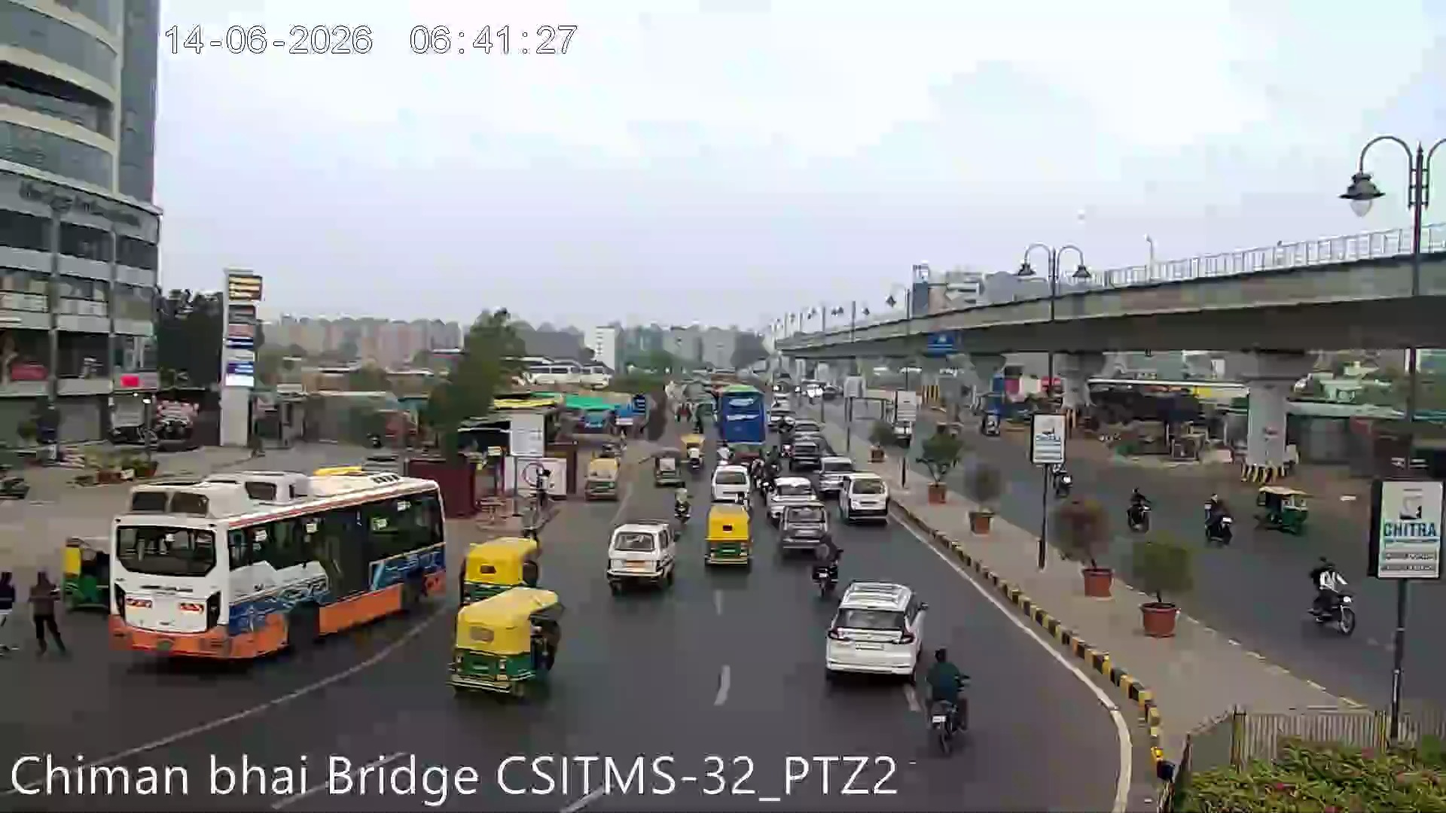auto_rickshaw: (448, 587, 566, 694), (462, 531, 542, 595), (1254, 481, 1312, 536), (704, 504, 753, 568), (583, 454, 622, 501), (0, 459, 31, 500), (929, 414, 963, 443)
bus: (95, 459, 455, 658)
car: (823, 574, 929, 681), (604, 517, 679, 591), (777, 498, 832, 555), (841, 469, 891, 524)
pedestrian: (27, 569, 66, 663), (0, 560, 19, 652)
two_wheeler: (920, 645, 975, 757), (1301, 553, 1359, 638), (1202, 491, 1237, 548), (1122, 482, 1154, 538), (810, 550, 839, 602), (1050, 458, 1075, 502)
